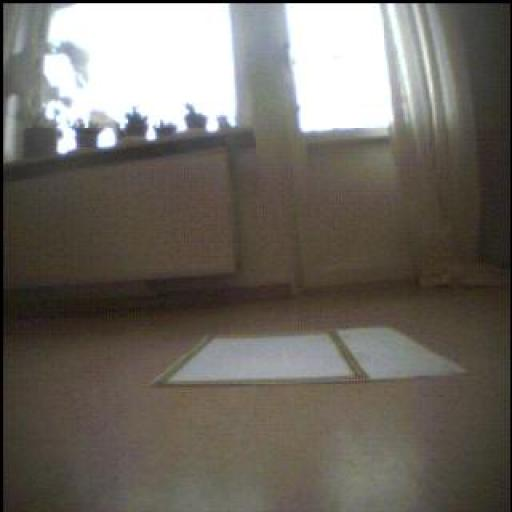Pad: (155, 329, 465, 387)
